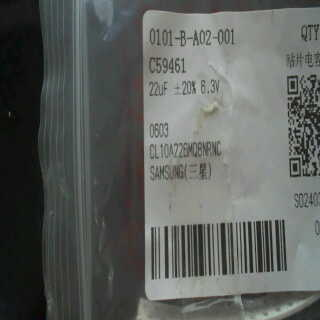22uF: (145, 76, 170, 98)
